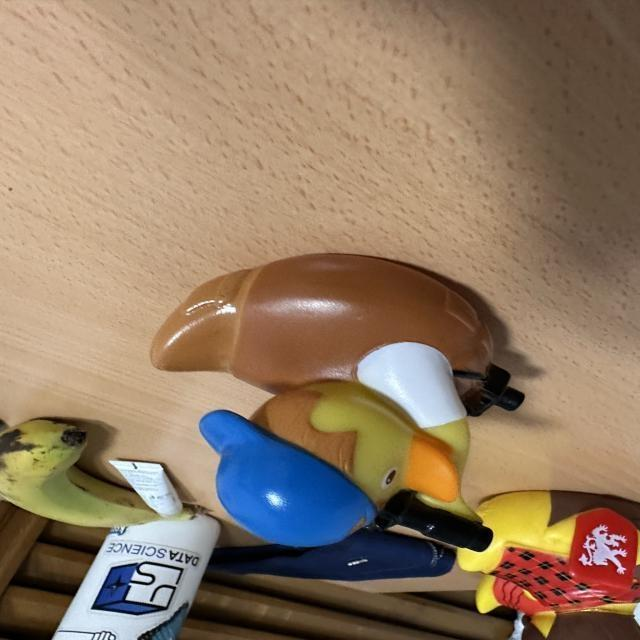rubber-duck: (150, 253, 506, 548)
